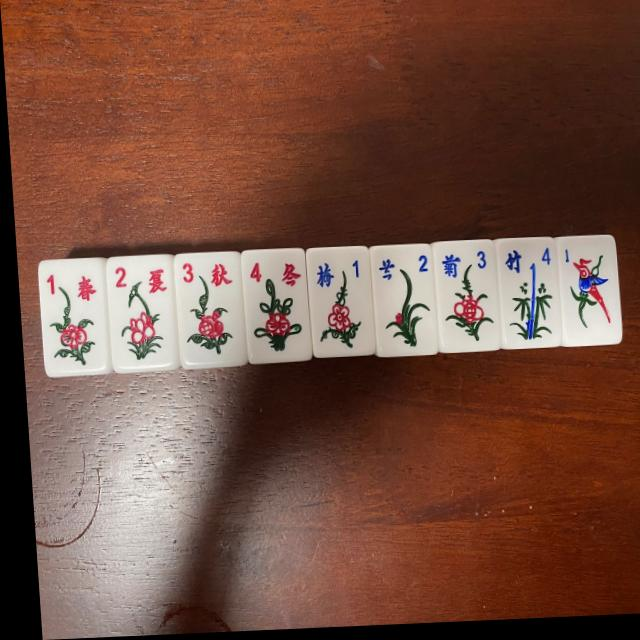f1: (305, 246, 376, 358)
f2: (369, 244, 439, 358)
f3: (431, 240, 502, 353)
f4: (494, 237, 564, 350)
ff1: (37, 256, 112, 375)
ff2: (106, 254, 180, 373)
ff3: (173, 251, 248, 370)
ff4: (239, 248, 313, 364)
s1: (555, 234, 623, 347)
